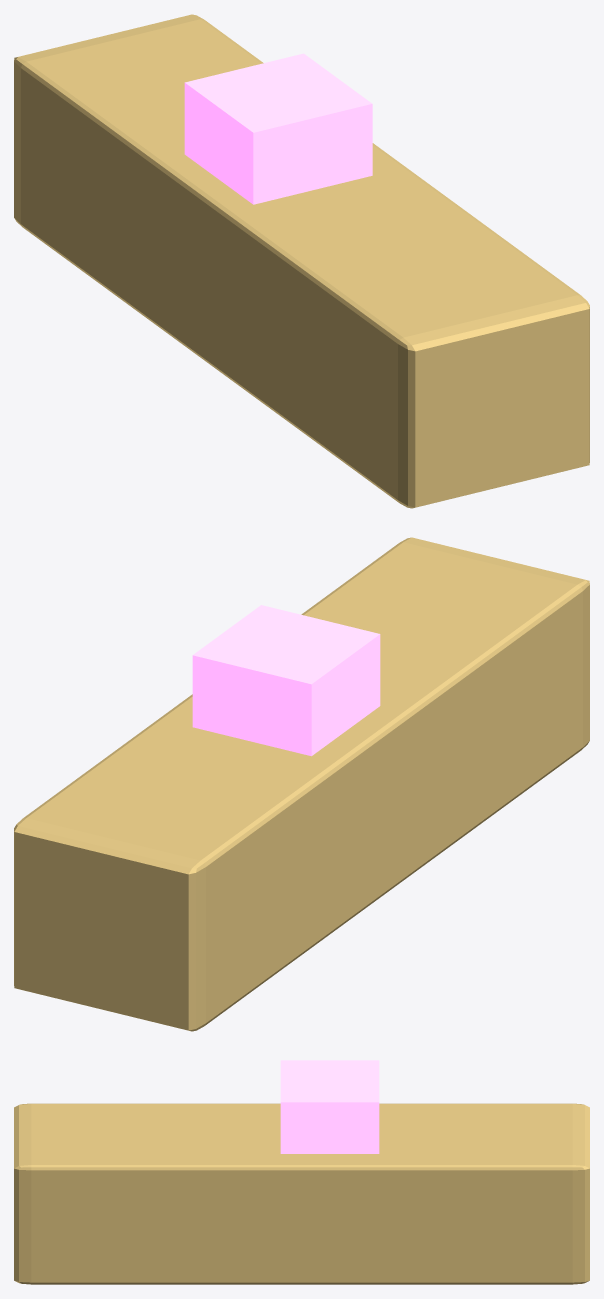
Rendered from SM_Keeper_OverlordEcho_Frag2.fbx.
The picture shows the model from 3 angles, top to bottom: view 1: azimuth 30°, elevation 25°; view 2: azimuth 150°, elevation 25°; view 3: azimuth 270°, elevation 25°; orthographic projection. The views are drawn at different scales.
Parts seen in each view (by area): view 1: SM_Keeper_OverlordEcho_Frag2; view 2: SM_Keeper_OverlordEcho_Frag2; view 3: SM_Keeper_OverlordEcho_Frag2.
Boxes of the visible parts, <box> form: SM_Keeper_OverlordEcho_Frag2: <box>14,14,589,508</box>; SM_Keeper_OverlordEcho_Frag2: <box>14,537,589,1031</box>; SM_Keeper_OverlordEcho_Frag2: <box>14,1060,589,1284</box>.
Size of the model in its own units: 1.56 by 1.91 by 5.83.
